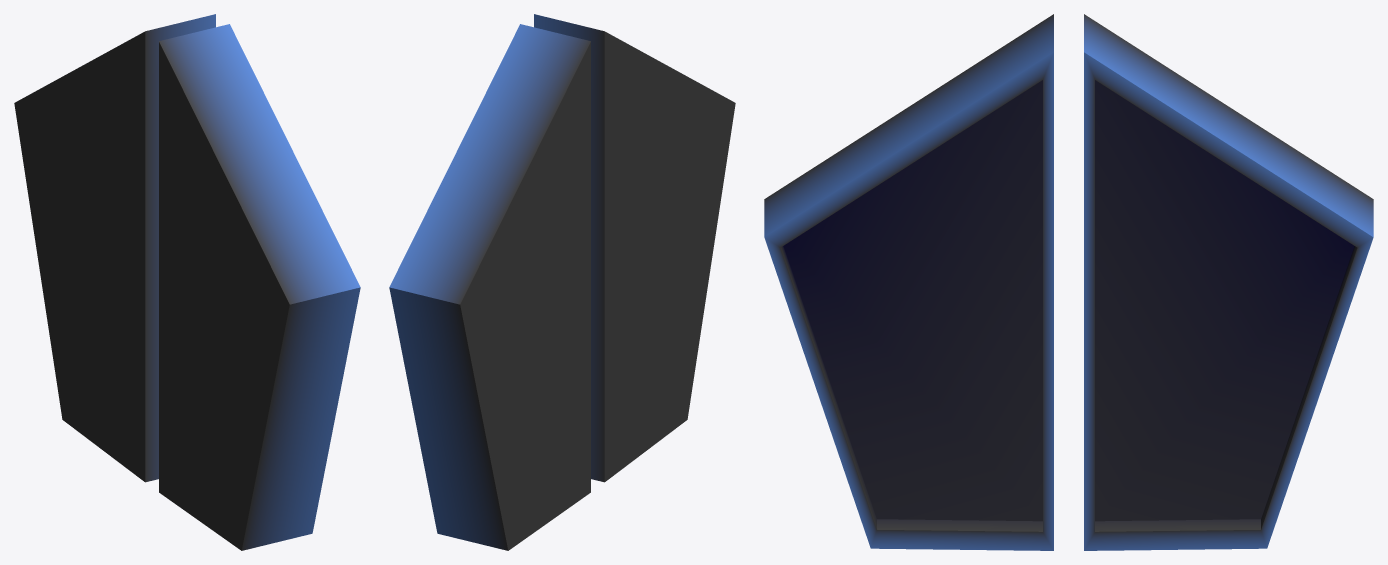
Rendered from pentadoor.fbx.
The picture shows the model from 3 angles, left to right: view 1: azimuth 30°, elevation 25°; view 2: azimuth 150°, elevation 25°; view 3: azimuth 270°, elevation 25°; orthographic projection. The views are drawn at different scales.
Parts seen in each view (by area): view 1: Cylinder, Cylinder.001; view 2: Cylinder.001, Cylinder; view 3: Cylinder, Cylinder.001.
Part boxes in pixels (x1=…): Cylinder: x1=159, y1=24, x2=360, y2=550; Cylinder.001: x1=14, y1=14, x2=215, y2=482; Cylinder.001: x1=389, y1=24, x2=590, y2=550; Cylinder: x1=534, y1=14, x2=735, y2=482; Cylinder: x1=764, y1=14, x2=1053, y2=550; Cylinder.001: x1=1084, y1=14, x2=1373, y2=550.
Size of the model in its own units: 29.6 by 180 by 199.
